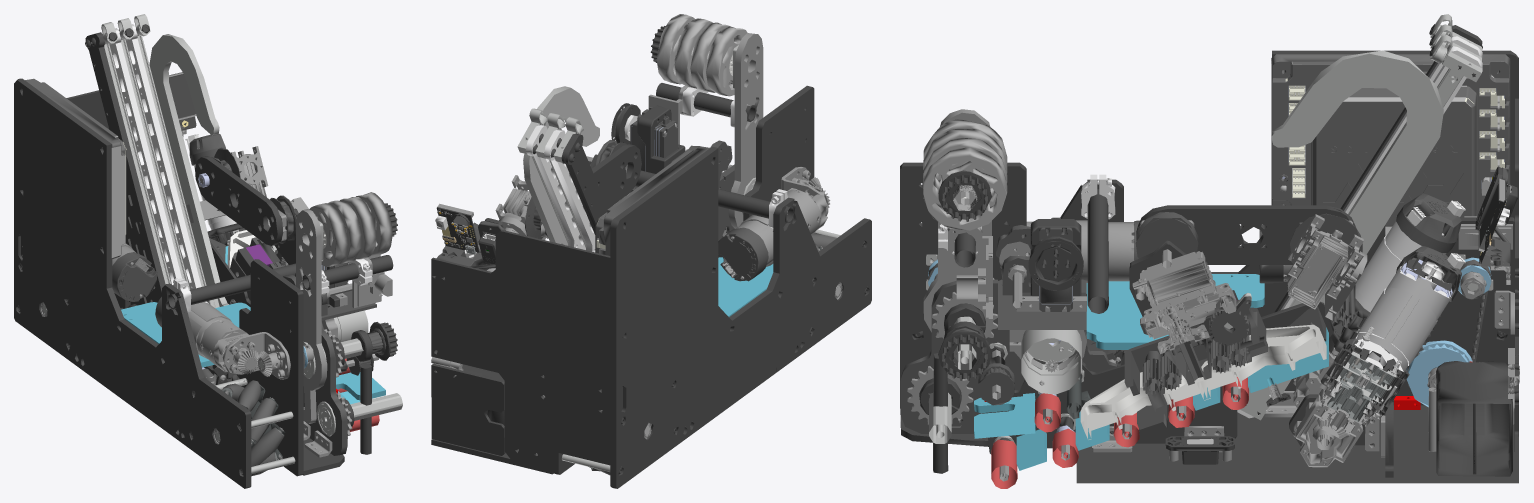
Rendered from ftc-centerstage-section.glb.
3 views of the same model, side by side, from view 1: azimuth 30°, elevation 25°; view 2: azimuth 150°, elevation 25°; view 3: azimuth 270°, elevation 25° (orthographic). The views are drawn at different scales.
Parts seen in each view (by area): view 1: Outer .1in Layer (2):1; view 2: Outer .1in Layer (2):1; view 3: Outer .1in Layer (2):1.
Part boxes in pixels (<box>): Outer .1in Layer (2):1: <box>14,14,402,488</box>; Outer .1in Layer (2):1: <box>431,14,871,488</box>; Outer .1in Layer (2):1: <box>900,14,1519,488</box>.
Size of the model in its own units: 0.1544 by 0.2838 by 0.3704.
Materials: 1 (1 with a texture image).
